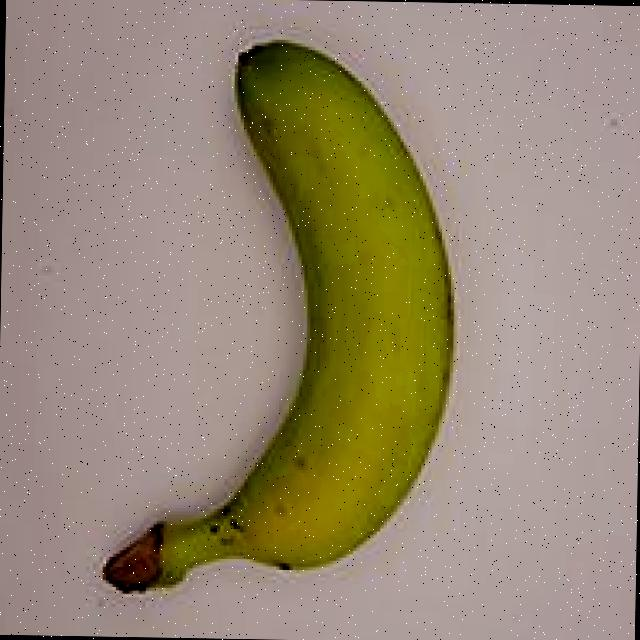Unripe: (48, 21, 503, 622)
